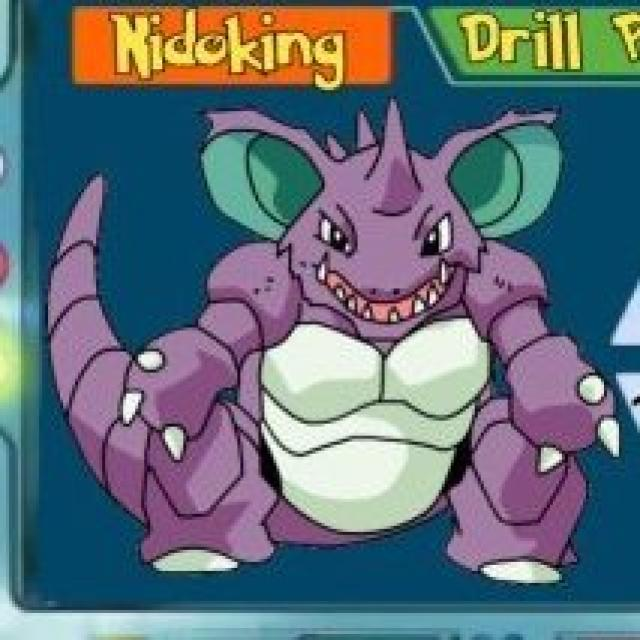Nidoking: (128, 99, 579, 584)
